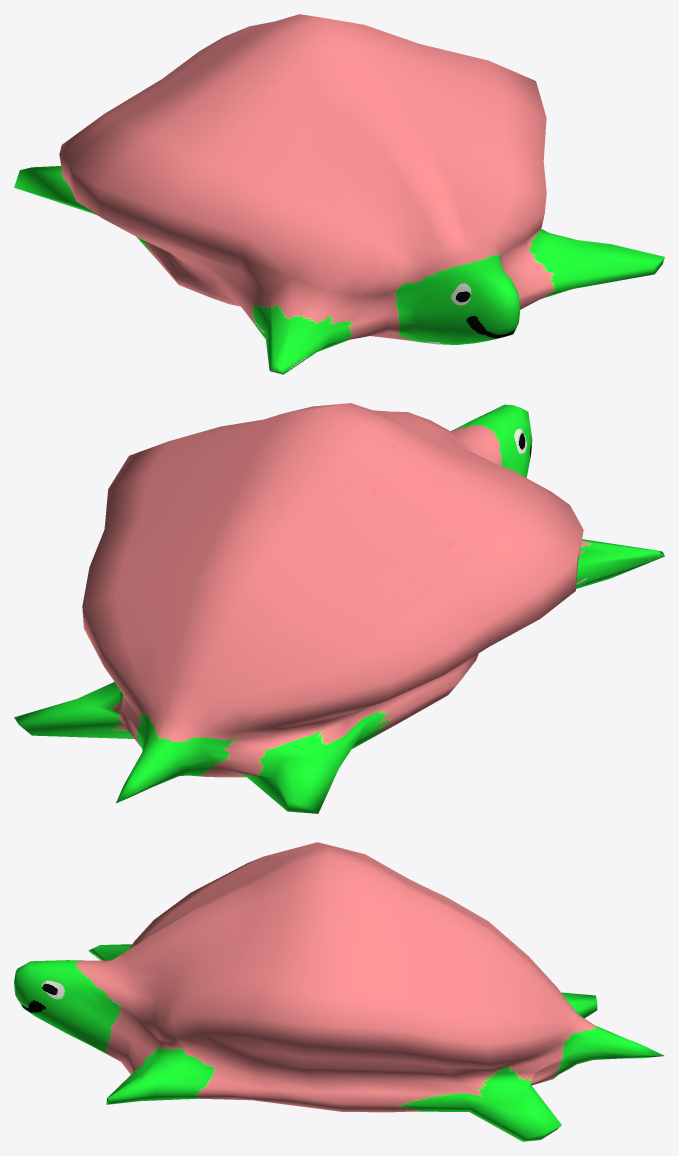
Rendered from turtle.gltf.
3 renders of one model, top to bottom at view 1: azimuth 30°, elevation 25°; view 2: azimuth 150°, elevation 25°; view 3: azimuth 270°, elevation 25°, orthographic. The views are drawn at different scales.
Parts seen in each view (by area): view 1: Cube; view 2: Cube; view 3: Cube.
Boxes of the visible parts, left/top/right/bottom form: Cube: left=14, top=14, right=664, bottom=374; Cube: left=14, top=403, right=664, bottom=813; Cube: left=14, top=842, right=664, bottom=1141.
Size of the model in its own units: 4.01 by 2.33 by 6.18.
Materials: 1 (1 with a texture image).
